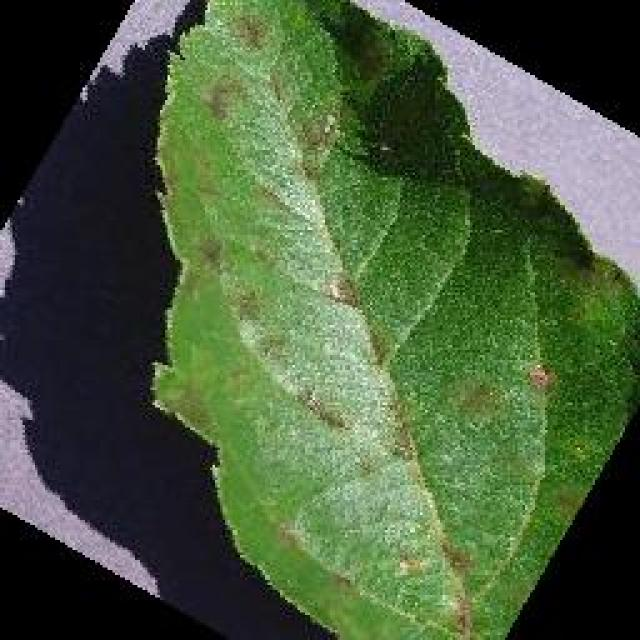apple scab disease: (145, 0, 637, 638)
